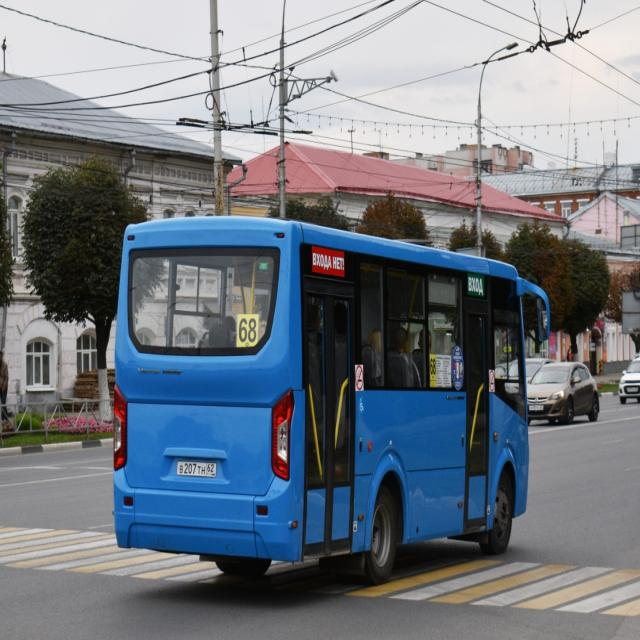number-of-bus: (239, 314, 259, 348)
